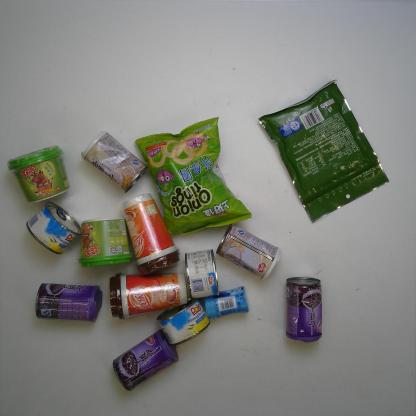Canned Food: (76, 127, 151, 195), (111, 326, 180, 392), (215, 221, 284, 283), (23, 198, 86, 258), (32, 280, 104, 325), (153, 297, 213, 348), (282, 274, 325, 344), (182, 247, 220, 302)
Dried Fruit: (255, 76, 393, 227)
Gum: (200, 284, 251, 322)
Instant Drink: (119, 191, 182, 278), (4, 142, 73, 206), (108, 269, 190, 322), (75, 215, 136, 270)
Puffed Food: (132, 113, 254, 239)
